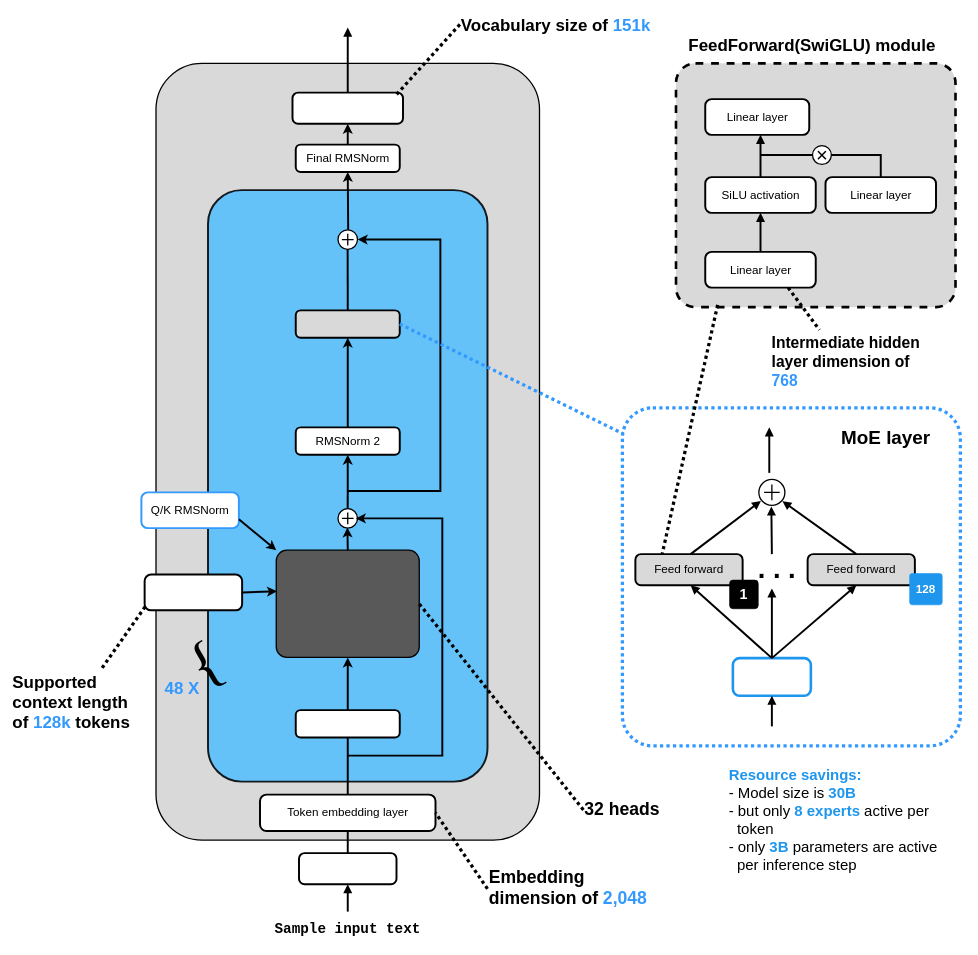
Some shapes in this 978 by 955 pixel diagram are drawn without their labels. The centre of each missing label's shape, as x and y in pixels:
Grouped-query attention: point (347, 603)
Linear output layer: point (347, 107)
MoE: point (347, 323)
RMSNorm 1: point (347, 723)
RoPE: point (193, 592)
Router: point (771, 676)
Tokenized text: point (347, 868)
